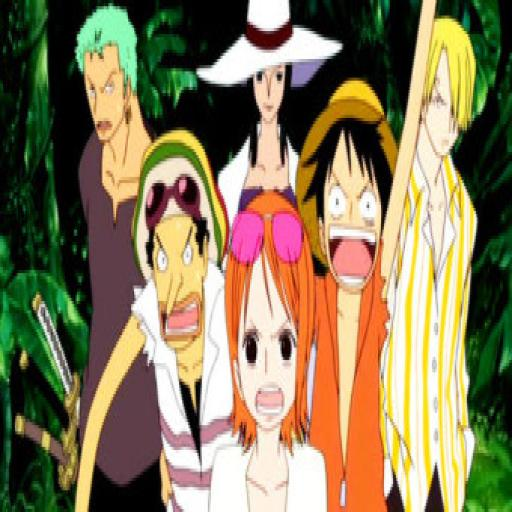Luffy: (312, 77, 404, 296)
Nami: (229, 205, 309, 436)
NicoRobin: (244, 37, 291, 164)
Usopp: (144, 149, 218, 357)
Zoro: (71, 3, 143, 151)
sanji: (408, 12, 479, 168)
